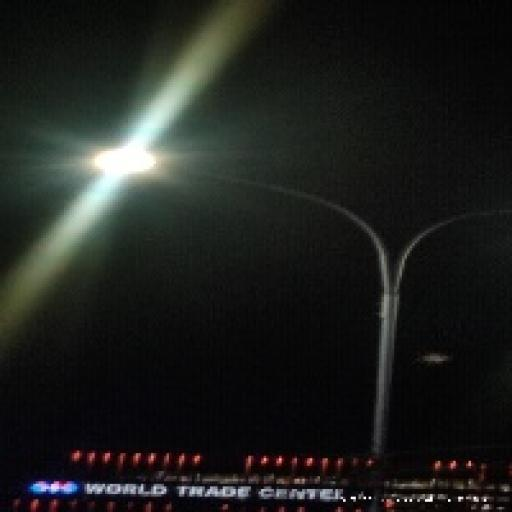Working: (79, 142, 169, 188)
